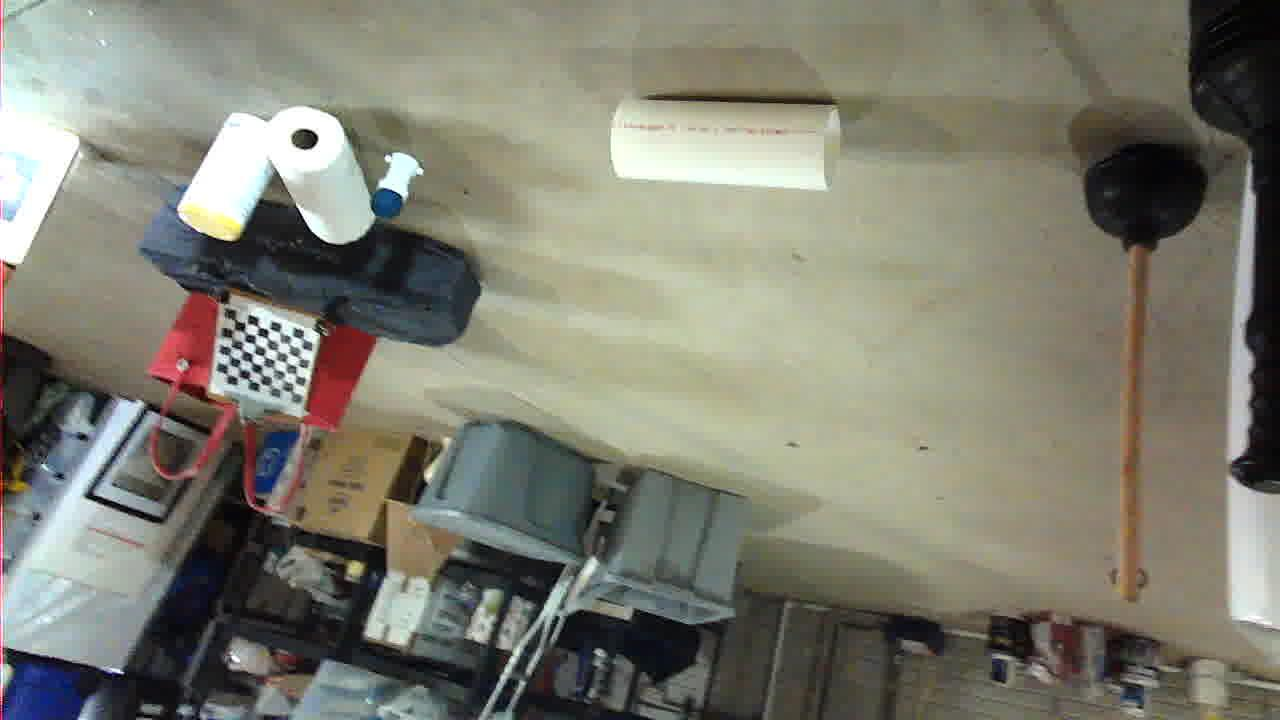coral: (441, 535, 666, 622)
